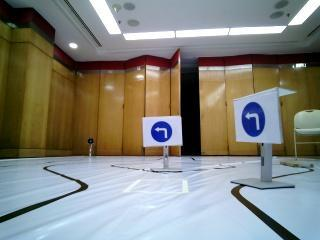left: (234, 100, 280, 143), (139, 116, 182, 143)
